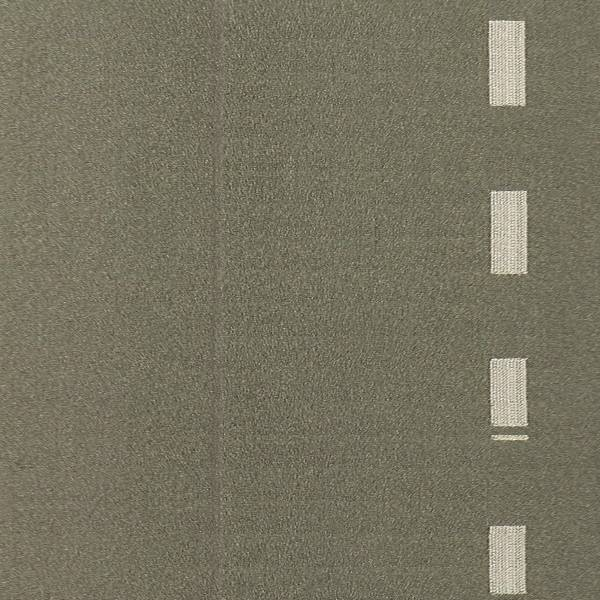road_damage: (198, 34, 227, 600)
